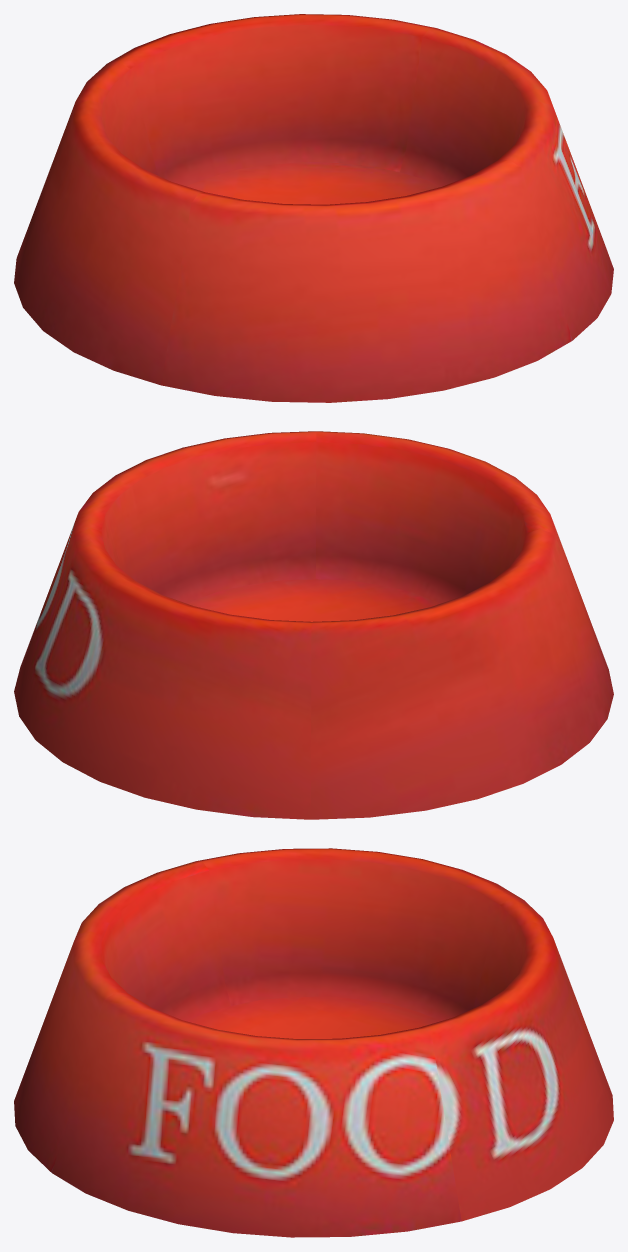
Rendered from Dog_Food.fbx.
3 renders of one model, top to bottom at view 1: azimuth 30°, elevation 25°; view 2: azimuth 150°, elevation 25°; view 3: azimuth 270°, elevation 25°, orthographic.
Visible parts, largest first — view 1: food_bowl; view 2: food_bowl; view 3: food_bowl.
Boxes of the visible parts, x1,y1,x2,y2 form: food_bowl: (14,14,613,402); food_bowl: (14,431,613,819); food_bowl: (14,848,613,1237).
Bounding box in the file's own units: 80.72 × 24.55 × 80.72.
Materials: 1 (1 with a texture image).
